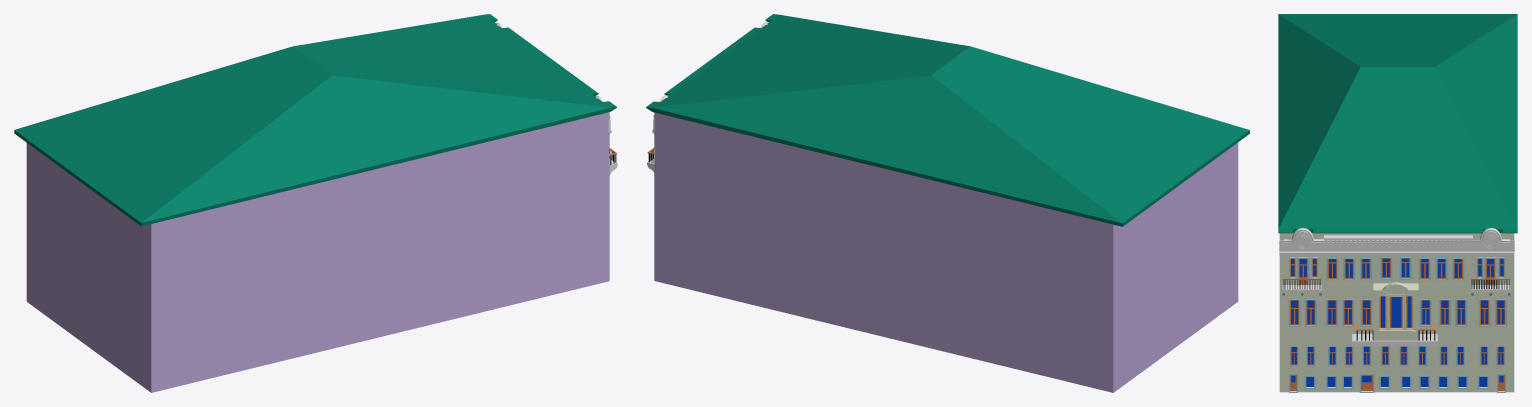
Rendered from Building_03_01.fbx.
3 renders of one model, left to right at view 1: azimuth 30°, elevation 25°; view 2: azimuth 150°, elevation 25°; view 3: azimuth 270°, elevation 25°, orthographic. The views are drawn at different scales.
Visible parts, largest first — view 1: 0_Corpus.002, roof; view 2: 0_Corpus.002, roof; view 3: roof, 0_Corpus.002, Balcony.001, RoofHead4.001, BalconyBelt.013, RoofHead.001, RoofHead2.001, Window 4 arr.013, Window 4 arr.008, SimpleVBalcony.001, Window 4 arr.022, Window 4 arr.010 (+21 smaller).
Boxes of the visible parts, x1,y1,x2,y2 form: 0_Corpus.002: [26, 112, 609, 392]; roof: [14, 14, 616, 226]; 0_Corpus.002: [654, 112, 1238, 392]; roof: [646, 14, 1249, 226]; roof: [1278, 14, 1517, 233]; 0_Corpus.002: [1279, 233, 1514, 392]; Balcony.001: [1373, 282, 1418, 340]; RoofHead4.001: [1279, 232, 1514, 251]; BalconyBelt.013: [1279, 251, 1514, 255]; RoofHead.001: [1284, 228, 1509, 243]; RoofHead2.001: [1324, 235, 1472, 240]; Window 4 arr.013: [1418, 258, 1464, 280]; Window 4 arr.008: [1326, 258, 1371, 280]; SimpleVBalcony.001: [1352, 334, 1437, 346]; Window 4 arr.022: [1362, 346, 1426, 366]; Window 4 arr.010: [1288, 299, 1316, 326].
Size of the model in its own units: 13323 by 6068 by 6038.
